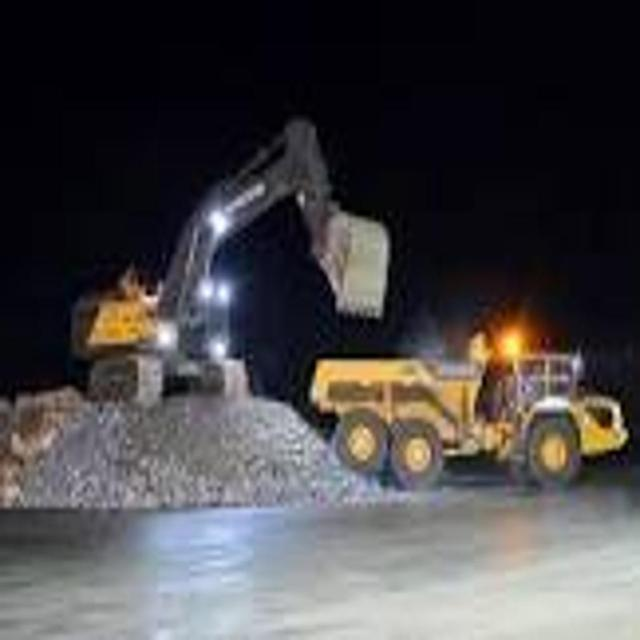dump_truck: (305, 320, 635, 495)
